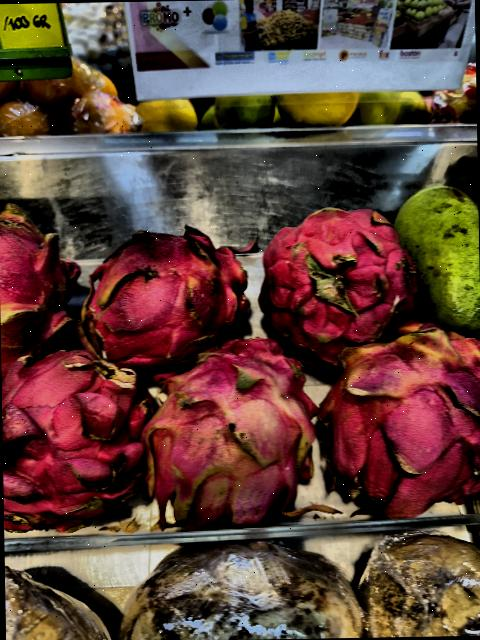buah-naga-belum-matang: (134, 329, 322, 529), (322, 315, 480, 514)
buah-naga-matang: (252, 194, 434, 352), (1, 345, 151, 531), (80, 217, 253, 354), (0, 200, 82, 357)
